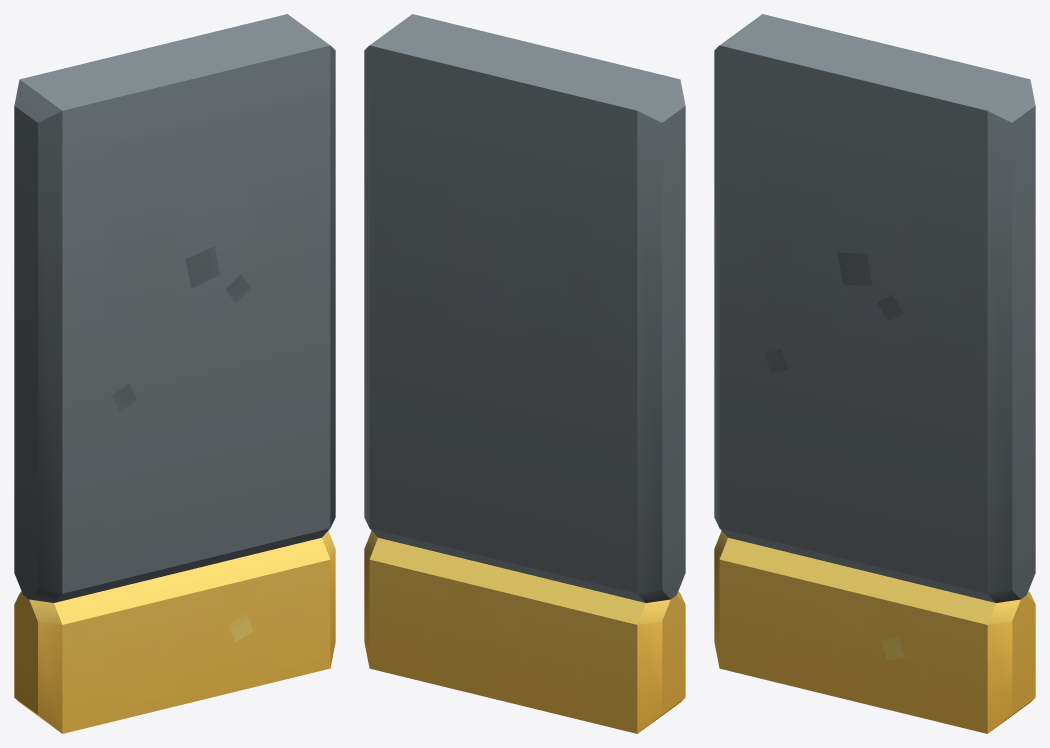
File: kaykit-prototype-bits-wall-half.glb
The picture shows the model from 3 angles, left to right: view 1: azimuth 30°, elevation 25°; view 2: azimuth 150°, elevation 25°; view 3: azimuth 330°, elevation 25°; orthographic projection.
Visible parts, largest first — view 1: Wall_Half; view 2: Wall_Half; view 3: Wall_Half.
Boxes of the visible parts, x1,y1,x2,y2 form: Wall_Half: (14,14,335,733); Wall_Half: (364,14,685,733); Wall_Half: (714,14,1035,733).
Size of the model in its own units: 2 by 4 by 0.5298.
Materials: 1 (1 with a texture image).
